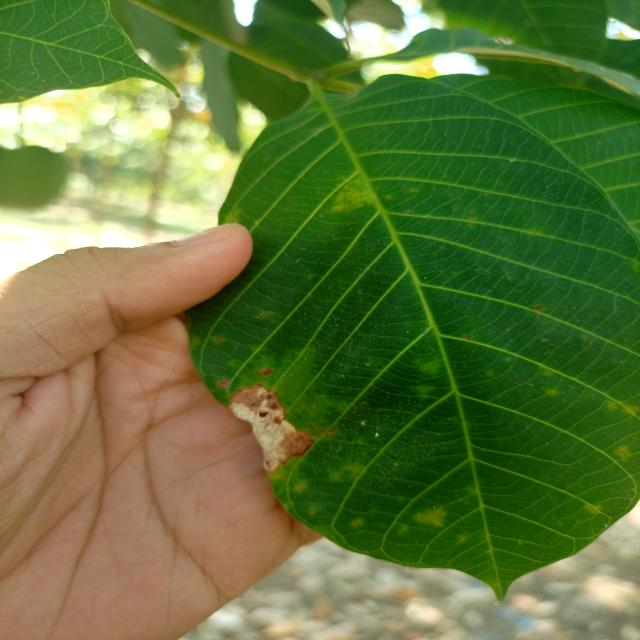Colletotrichum: (534, 305, 543, 312), (463, 334, 471, 341)
Leaf-Blight: (227, 384, 313, 471)
